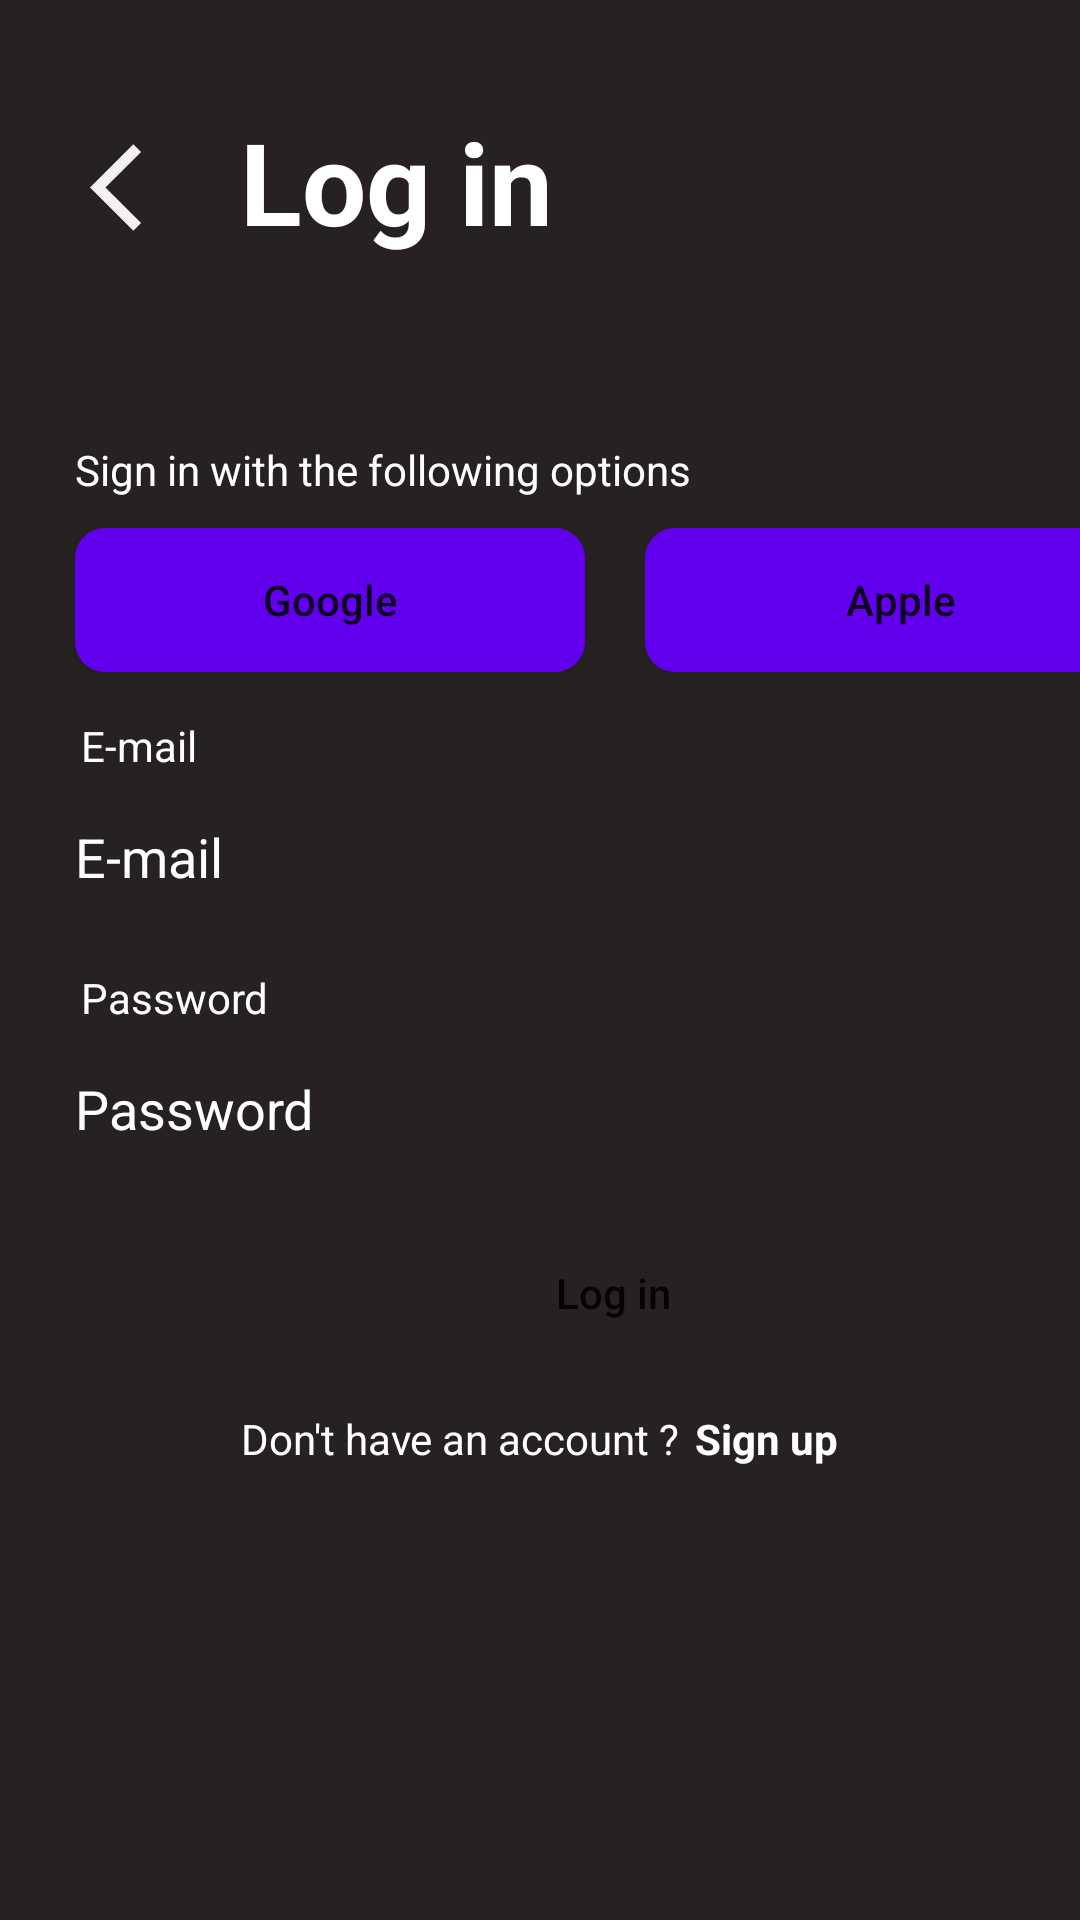

Icons on this 1080 × 1920 Android screen, each with its box as Rect(x1, y1, x2, y2):
back arrow: Rect(90, 144, 141, 231)
